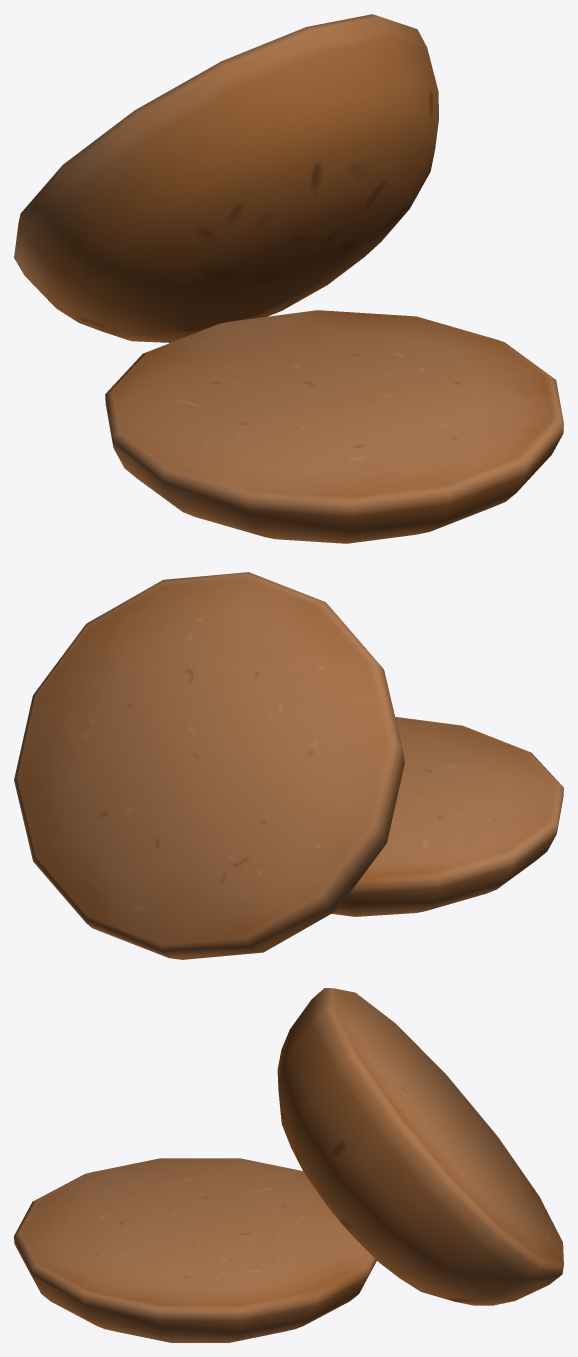
The model's file is MSH_Pan_Base_Tapa.fbx.
3 views of the same model, one above another, from view 1: azimuth 30°, elevation 25°; view 2: azimuth 150°, elevation 25°; view 3: azimuth 270°, elevation 25° (orthographic). The views are drawn at different scales.
Parts seen in each view (by area): view 1: MSH_Pan_Base_Tapa; view 2: MSH_Pan_Base_Tapa; view 3: MSH_Pan_Base_Tapa.
Part boxes in pixels (x1,y1,x2,y2): MSH_Pan_Base_Tapa: [14, 14, 563, 543]; MSH_Pan_Base_Tapa: [14, 572, 563, 959]; MSH_Pan_Base_Tapa: [14, 988, 563, 1342].
Bounding box in the file's own units: 15.78 × 21.84 × 13.32.
1 material, 1 textured.
